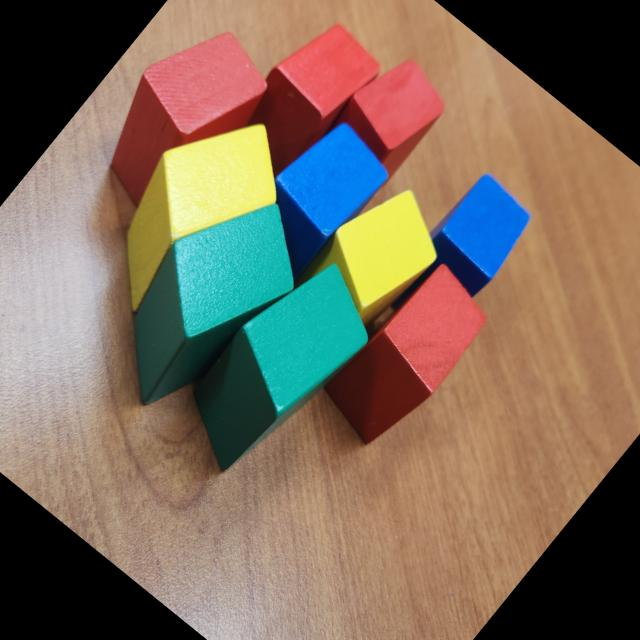blue: (230, 110, 399, 289), (408, 166, 544, 308)
green: (80, 167, 330, 434), (160, 240, 398, 496)
red: (74, 3, 289, 230), (308, 253, 502, 462), (215, 6, 390, 192), (322, 44, 461, 186)
yellow: (76, 87, 310, 338), (293, 168, 461, 344)
